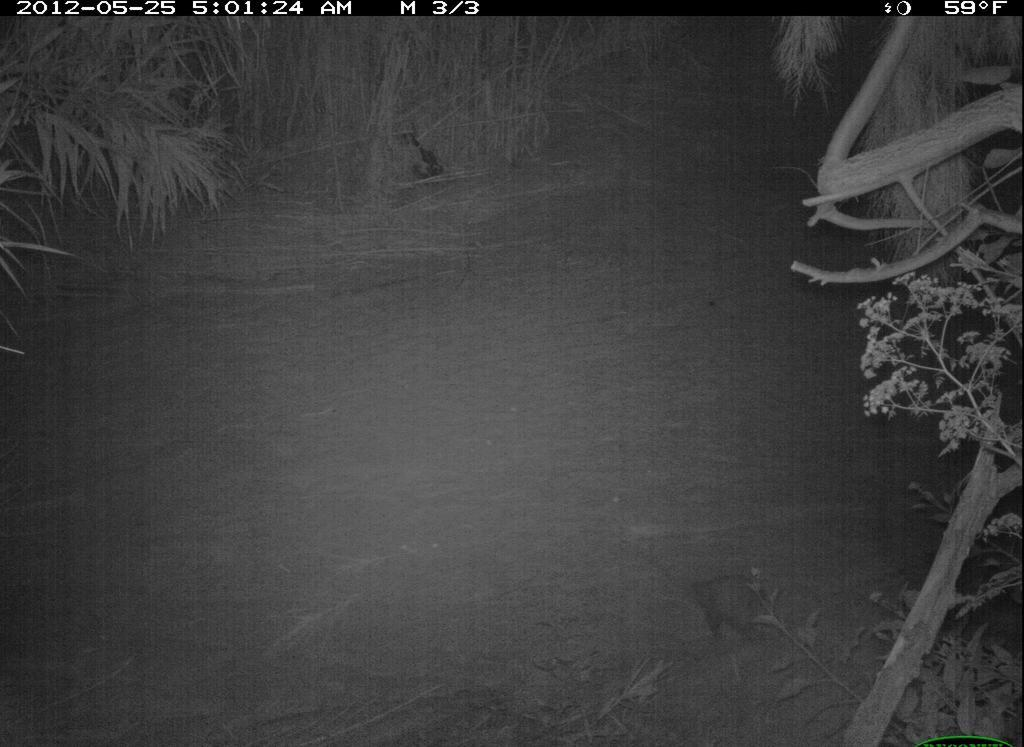opossum: (652, 555, 794, 651)
